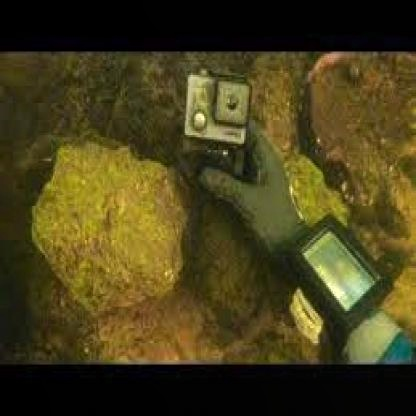electronics: (178, 68, 254, 154)
